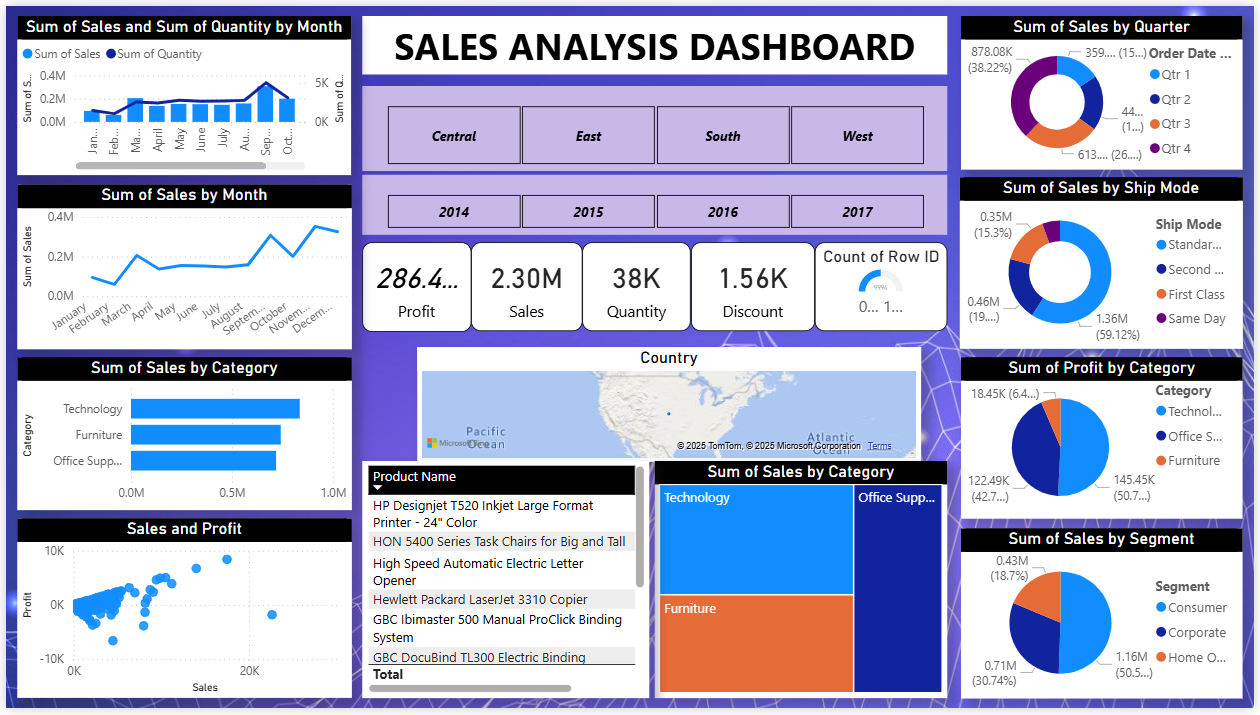

Layout of this report page (visuals, bound fields, positions):
{"tool":"powerbi","page":{"name":"Page 1","canvas":[1280,720],"ordinal":0},"visuals":[{"type":"slicer","fields":{"Values":["sample_-_superstore xls - Order.Region"]},"box":[365.7,81.4,600,87.1],"z":0},{"type":"textbox","box":[365.4,10.3,600,60.3],"z":1000},{"type":"card","fields":{"Values":["Sum(sample_-_superstore xls - Order.Profit)"]},"box":[365.6,242.9,111.7,92],"z":2000},{"type":"card","fields":{"Values":["Sum(sample_-_superstore xls - Order.Sales)"]},"box":[477.1,242.9,114.3,91.4],"z":3000},{"type":"card","fields":{"Values":["Sum(sample_-_superstore xls - Order.Quantity)"]},"box":[591.4,242.9,111.4,91.4],"z":4000},{"type":"card","fields":{"Values":["Sum(sample_-_superstore xls - Order.Discount)"]},"box":[702.9,242.9,127.1,91.4],"z":5000},{"type":"gauge","fields":{"Y":["CountNonNull(sample_-_superstore xls - Order.Row ID)"]},"box":[830,242.9,135.7,91.4],"z":6000},{"type":"slicer","fields":{"Values":["sample_-_superstore xls - Order.Order Date.Variation.Date Hierarchy.Year"]},"box":[365.7,172.9,600,61.4],"z":7000},{"type":"barChart","fields":{"Category":["sample_-_superstore xls - Order.Category"],"Y":["Sum(sample_-_superstore xls - Order.Sales)"]},"box":[11.4,360,342.9,157.1],"z":8000},{"type":"lineChart","fields":{"Y":["Sum(sample_-_superstore xls - Order.Sales)"],"Category":["sample_-_superstore xls - Order.Order Date.Variation.Date Hierarchy.Month"]},"box":[11.4,182.9,342.9,168.6],"z":9000},{"type":"scatterChart","fields":{"X":["sample_-_superstore xls - Order.Sales"],"Y":["sample_-_superstore xls - Order.Profit"]},"box":[11.4,525.7,342.9,184.3],"z":10000},{"type":"pieChart","fields":{"Category":["sample_-_superstore xls - Order.Category"],"Y":["Sum(sample_-_superstore xls - Order.Profit)"]},"box":[980,360,288.6,165.7],"z":11000},{"type":"map","fields":{"Category":["sample_-_superstore xls - Order.Country"]},"box":[422.1,349.7,516.6,117.8],"z":12000},{"type":"treemap","fields":{"Values":["Sum(sample_-_superstore xls - Order.Sales)"],"Group":["sample_-_superstore xls - Order.Category"]},"box":[665.7,467.1,300,242.9],"z":13000},{"type":"lineClusteredColumnComboChart","fields":{"Category":["sample_-_superstore xls - Order.Order Date.Variation.Date Hierarchy.Month"],"Y":["Sum(sample_-_superstore xls - Order.Sales)"],"Y2":["Sum(sample_-_superstore xls - Order.Quantity)"]},"box":[11.5,10.3,342.3,162.8],"z":14000},{"type":"tableEx","fields":{"Values":["sample_-_superstore xls - Order.Product Name","Sum(sample_-_superstore xls - Order.Sales)"]},"box":[365.7,467.1,294.3,242.9],"z":15000},{"type":"donutChart","fields":{"Category":["sample_-_superstore xls - Order.Ship Mode"],"Y":["Sum(sample_-_superstore xls - Order.Sales)"]},"box":[978.6,175.7,290,175.7],"z":16000},{"type":"pieChart","fields":{"Category":["sample_-_superstore xls - Order.Segment"],"Y":["Sum(sample_-_superstore xls - Order.Sales)"]},"box":[979.5,535.9,288.5,174.4],"z":17000},{"type":"donutChart","fields":{"Category":["sample_-_superstore xls - Order.Order Date.Variation.Date Hierarchy.Quarter"],"Y":["Sum(sample_-_superstore xls - Order.Sales)"]},"box":[979.5,10.3,288.5,157.7],"z":18000}]}

Visuals, with their boxes in screenshot pixels (x1, y1, x2, y2), scaled from the page's 1280x720 canvas onto the 1260x715 screenshot:
slicer - sample_-_superstore xls - Order.Region: 360 81 951 167
textbox: 360 10 950 70
card - Sum(sample_-_superstore xls - Order.Profit): 360 241 470 333
card - Sum(sample_-_superstore xls - Order.Sales): 470 241 582 332
card - Sum(sample_-_superstore xls - Order.Quantity): 582 241 692 332
card - Sum(sample_-_superstore xls - Order.Discount): 692 241 817 332
gauge - CountNonNull(sample_-_superstore xls - Order.Row ID): 817 241 951 332
slicer - sample_-_superstore xls - Order.Order Date.Variation.Date Hierarchy.Year: 360 172 951 233
barChart - sample_-_superstore xls - Order.Category x Sum(sample_-_superstore xls - Order.Sales): 11 358 349 514
lineChart - Sum(sample_-_superstore xls - Order.Sales) x sample_-_superstore xls - Order.Order Date.Variation.Date Hierarchy.Month: 11 182 349 349
scatterChart - sample_-_superstore xls - Order.Sales x sample_-_superstore xls - Order.Profit: 11 522 349 705
pieChart - sample_-_superstore xls - Order.Category x Sum(sample_-_superstore xls - Order.Profit): 965 358 1249 522
map - sample_-_superstore xls - Order.Country: 416 347 924 464
treemap - Sum(sample_-_superstore xls - Order.Sales) x sample_-_superstore xls - Order.Category: 655 464 951 705
lineClusteredColumnComboChart - sample_-_superstore xls - Order.Order Date.Variation.Date Hierarchy.Month x Sum(sample_-_superstore xls - Order.Sales): 11 10 348 172
tableEx - sample_-_superstore xls - Order.Product Name x Sum(sample_-_superstore xls - Order.Sales): 360 464 650 705
donutChart - sample_-_superstore xls - Order.Ship Mode x Sum(sample_-_superstore xls - Order.Sales): 963 174 1249 349
pieChart - sample_-_superstore xls - Order.Segment x Sum(sample_-_superstore xls - Order.Sales): 964 532 1248 705
donutChart - sample_-_superstore xls - Order.Order Date.Variation.Date Hierarchy.Quarter x Sum(sample_-_superstore xls - Order.Sales): 964 10 1248 167
